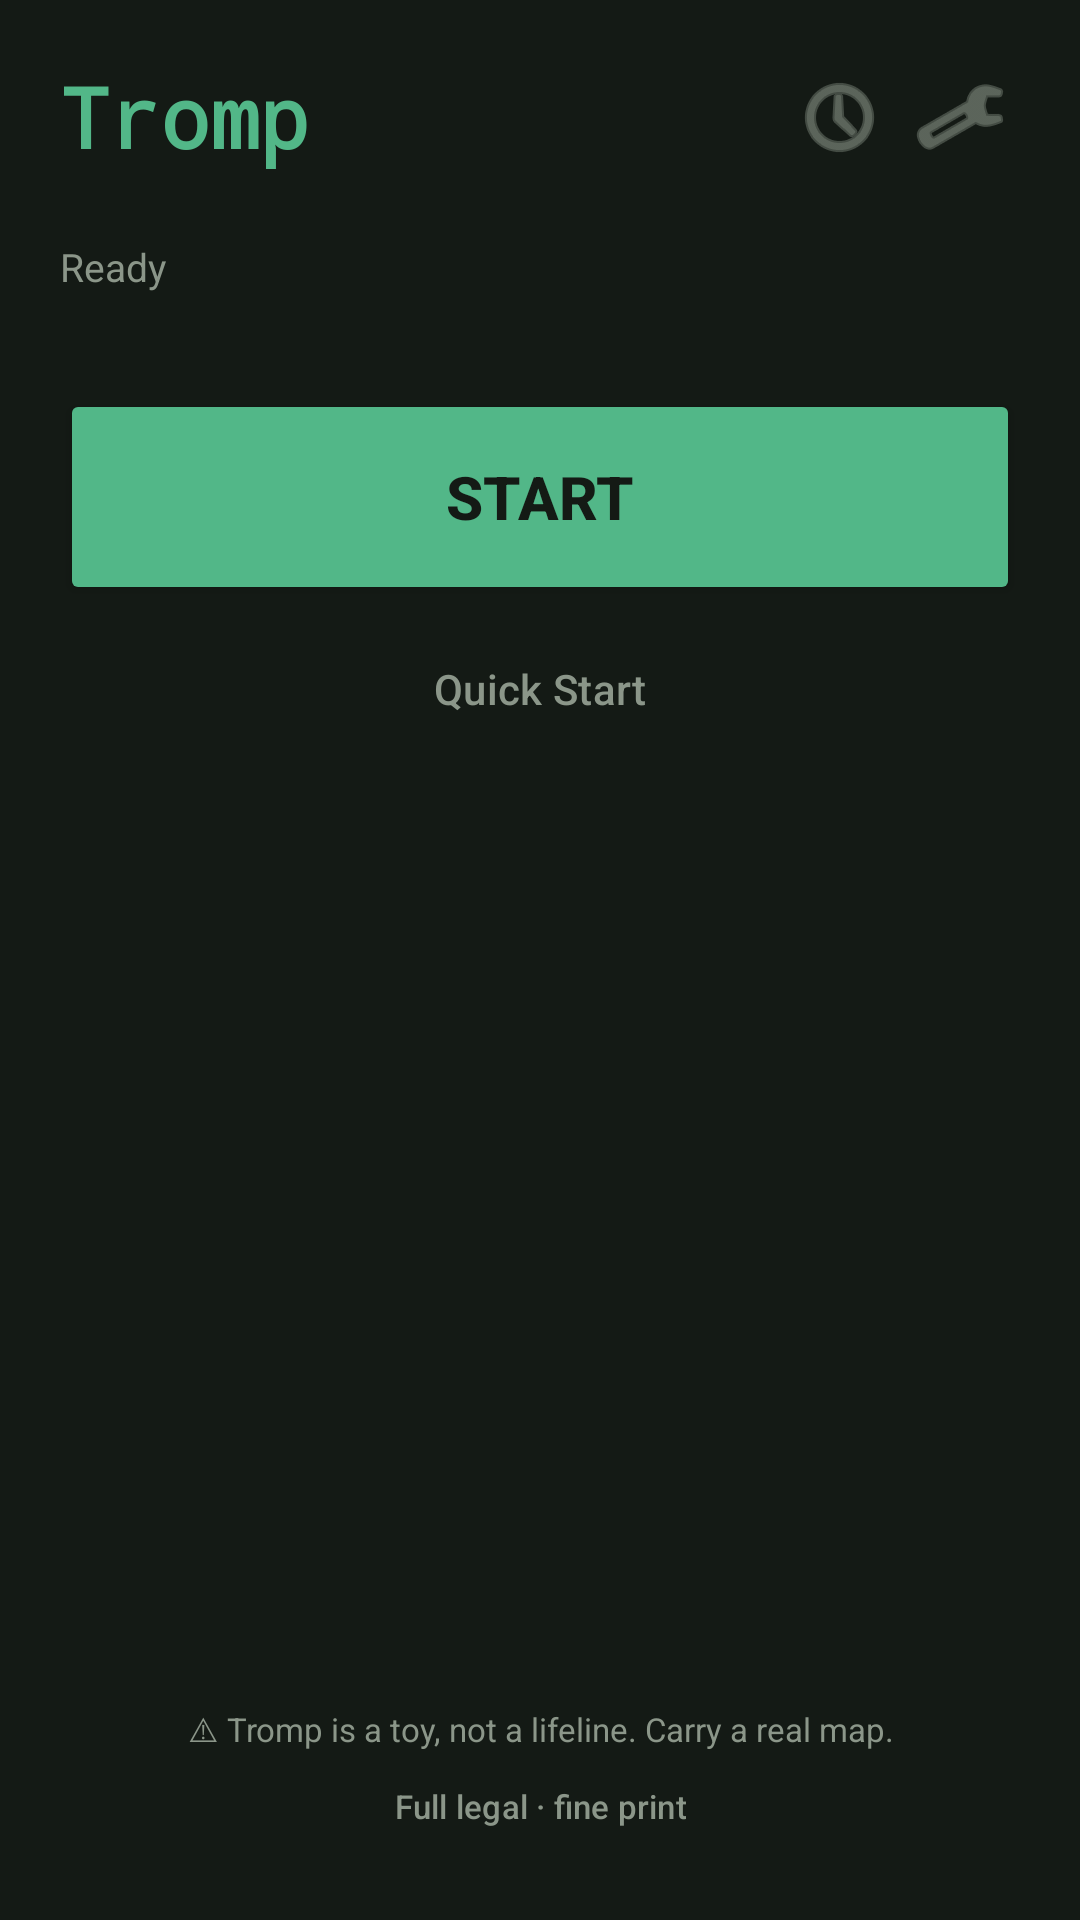

Locate icon controls on the screen. Image size 1080 × 1920, boxes as (left=x1, top=y1, right=x2, bottom=y2).
History: (left=805, top=83, right=874, bottom=152)
Settings: (left=917, top=84, right=1003, bottom=150)
